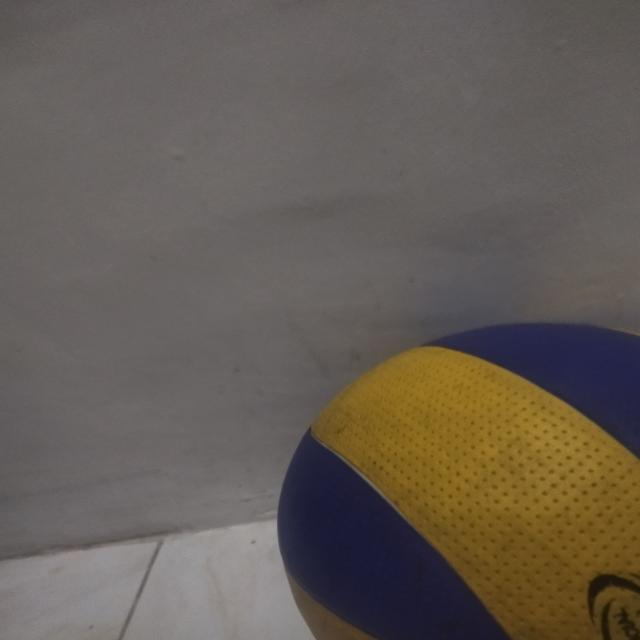Volleyball: (279, 315, 640, 640)
